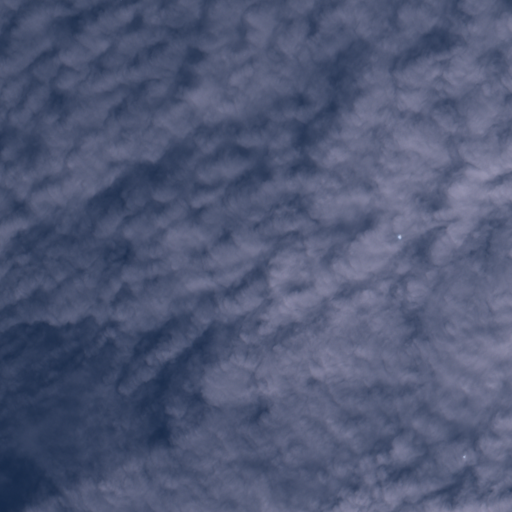Iceberg: (397, 234, 401, 239), (463, 455, 465, 457)
